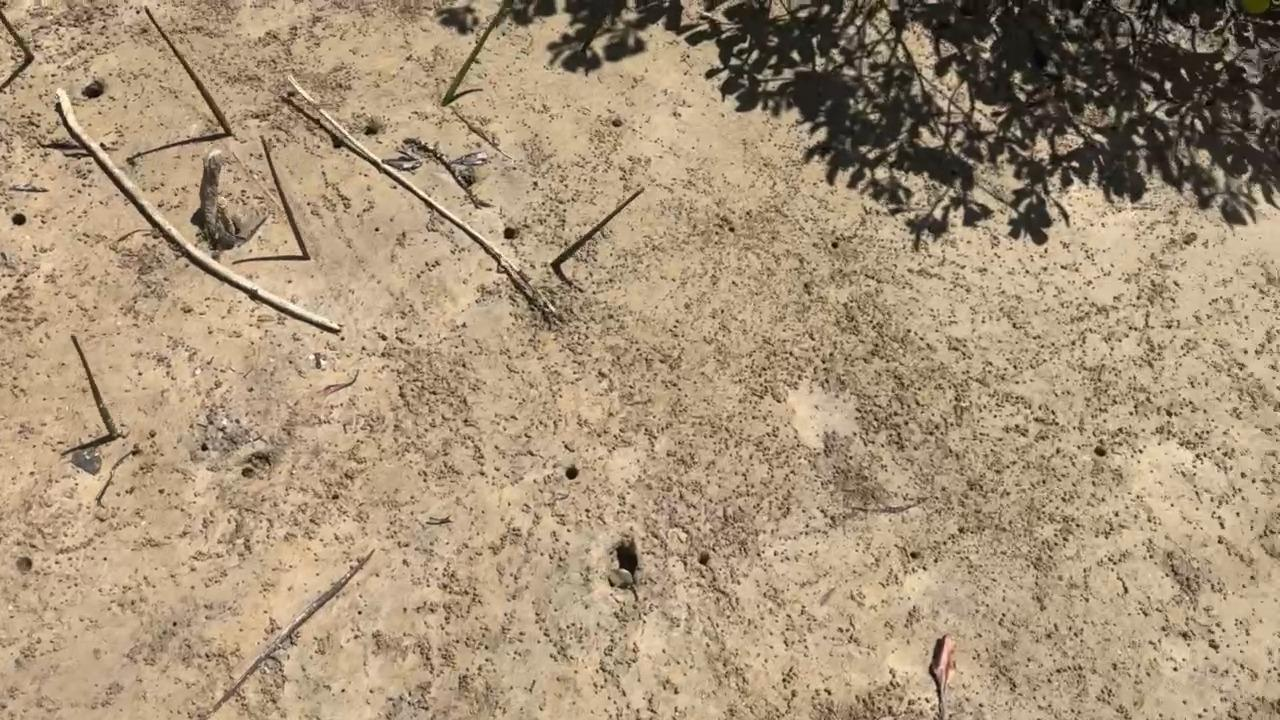Tree: (144, 5, 233, 135), (550, 186, 646, 268), (442, 0, 514, 105), (259, 134, 311, 260), (70, 333, 118, 437), (0, 9, 35, 61)
